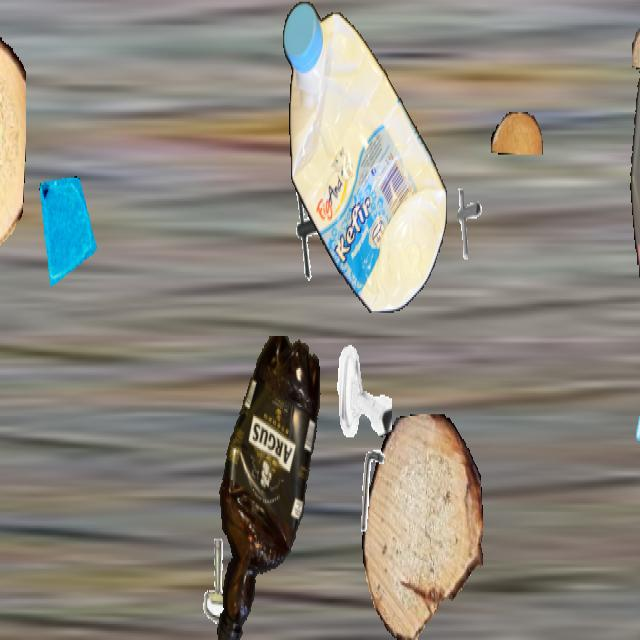glass: (36, 176, 100, 290), (625, 318, 640, 461)
metal: (285, 176, 345, 283), (334, 340, 392, 442), (193, 532, 249, 631), (347, 442, 401, 538), (445, 183, 489, 261)
plastic: (283, 2, 447, 311), (207, 336, 327, 638), (629, 2, 640, 314)
wood: (362, 414, 482, 638), (0, 25, 25, 249), (491, 112, 543, 155), (632, 16, 640, 73)
